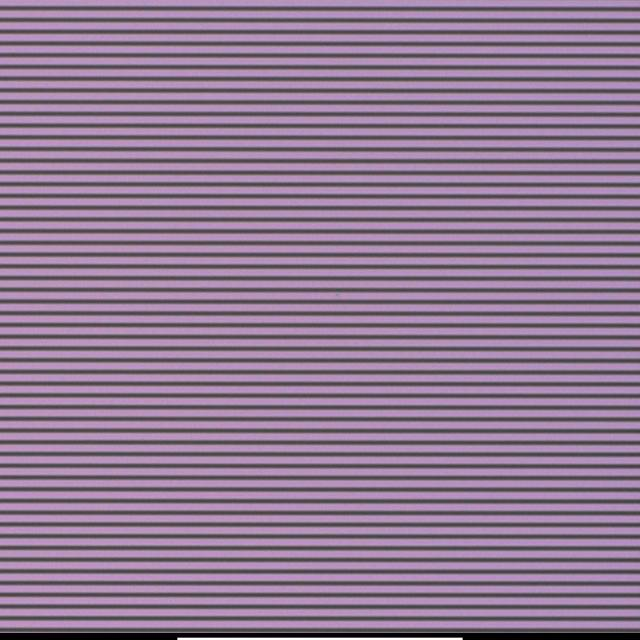nonvisual: (334, 286, 345, 302)
